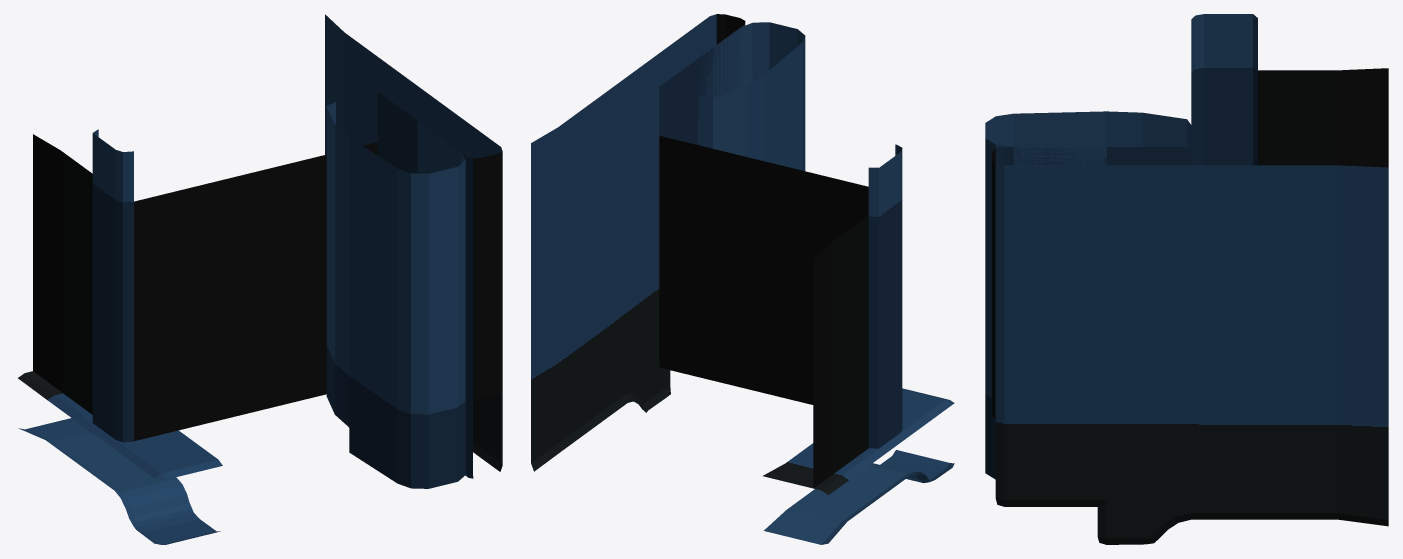
3 views of the same model, side by side, from view 1: azimuth 30°, elevation 25°; view 2: azimuth 150°, elevation 25°; view 3: azimuth 270°, elevation 25° (orthographic). The views are drawn at different scales.
Bounding box in the file's own units: 0.7499 × 0.835 × 0.7937.
